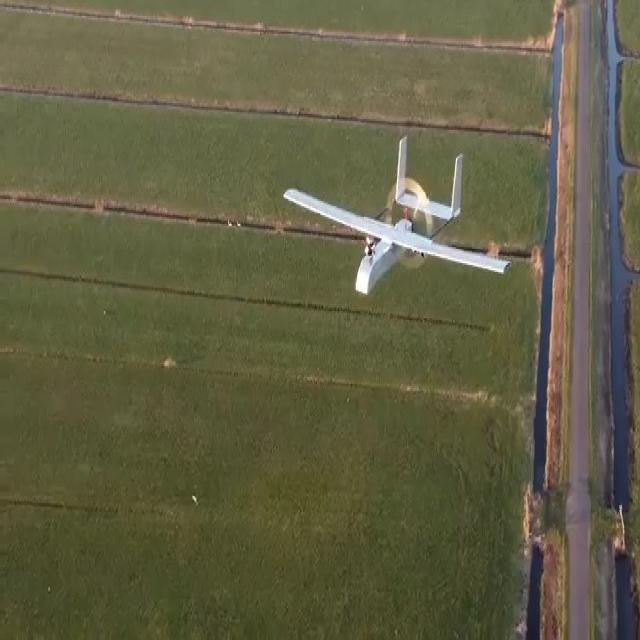iha: (278, 136, 501, 315)
